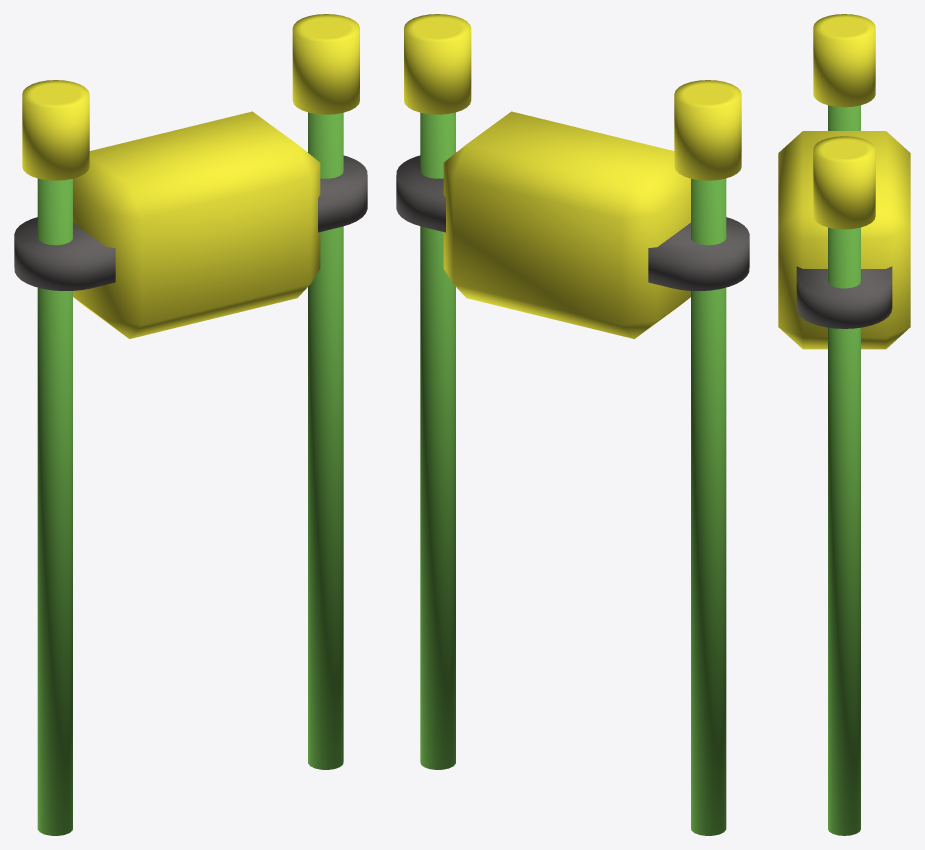
Rendered from Obstacle 24 V2.fbx.
3 views of the same model, side by side, from view 1: azimuth 30°, elevation 25°; view 2: azimuth 150°, elevation 25°; view 3: azimuth 270°, elevation 25° (orthographic). The views are drawn at different scales.
Visible parts, largest first — view 1: O24 Part 2, O24 Part 1; view 2: O24 Part 2, O24 Part 1; view 3: O24 Part 2, O24 Part 1.
Part boxes in pixels (x1,y1,x2,y2): O24 Part 2: (22, 14, 359, 835); O24 Part 1: (14, 111, 367, 338); O24 Part 2: (404, 14, 741, 835); O24 Part 1: (396, 111, 749, 338); O24 Part 2: (813, 14, 875, 835); O24 Part 1: (778, 131, 910, 349).
Size of the model in its own units: 146 by 302 by 53.16.
1 material, 1 textured.
